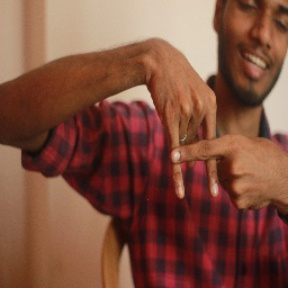H: (149, 74, 242, 204)
